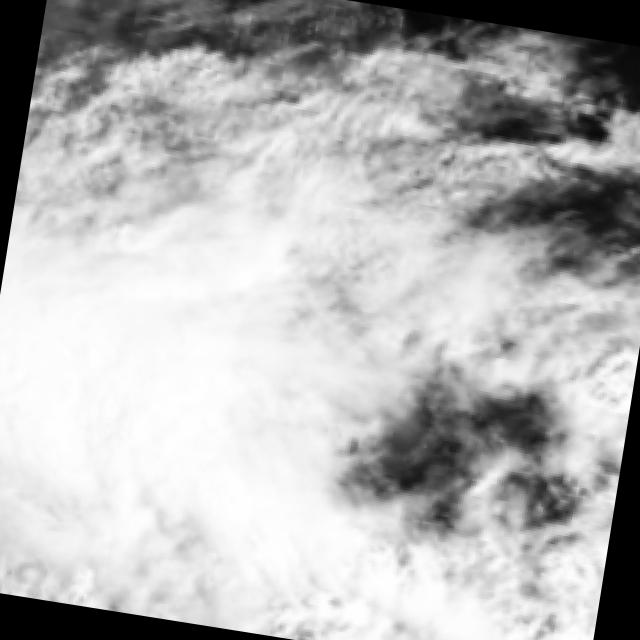CB: (0, 255, 255, 488)
